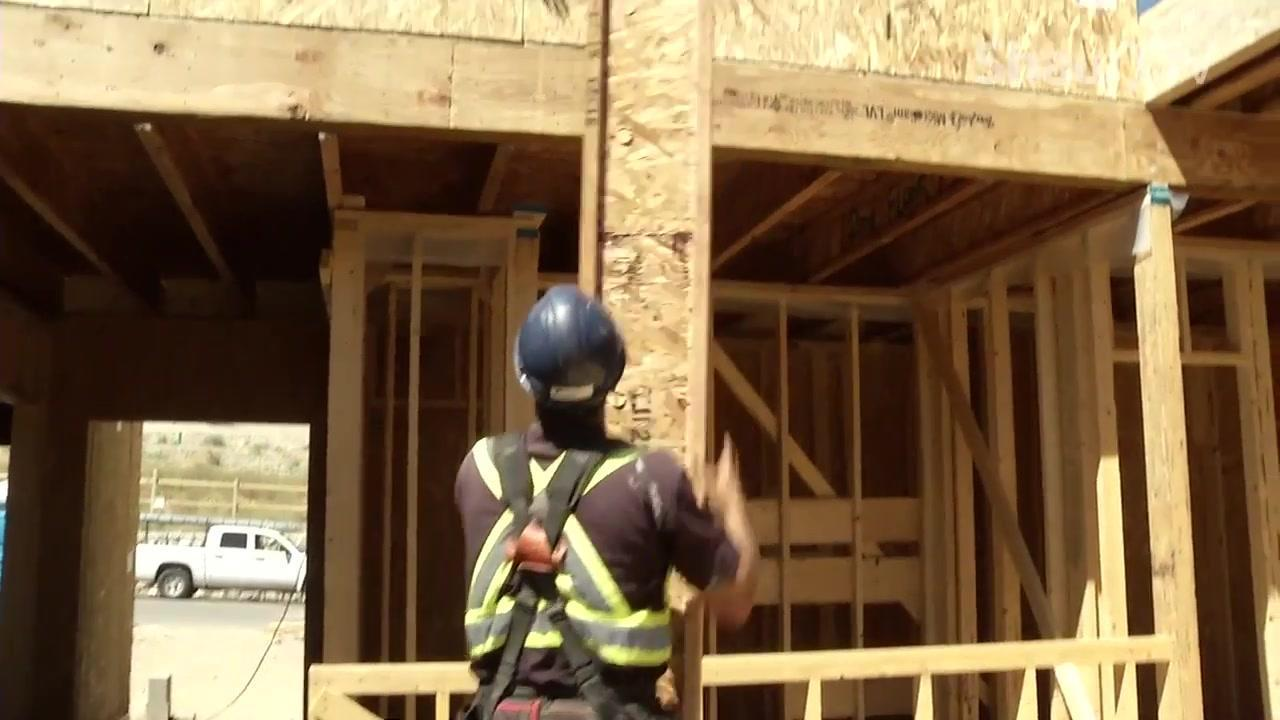vest: (460, 431, 673, 668)
